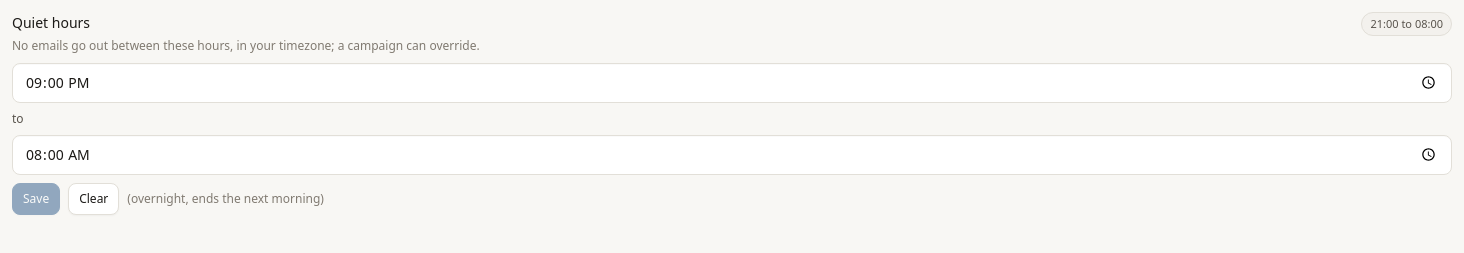
QuietHoursField clear › emptying both fields and pressing Save also clears
Clear the time field named "Quiet hours start". click: (732, 82)
box: [12,62,1452,102]
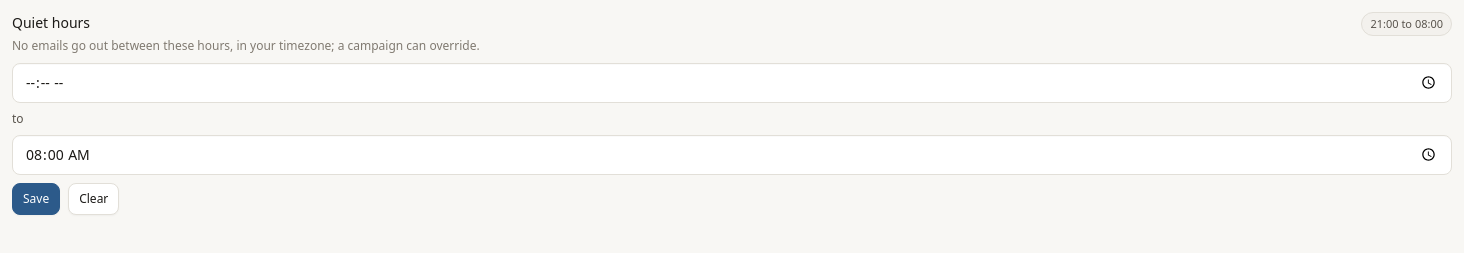
Clear the time field named "Quiet hours end". click: (732, 154)
box: [12,134,1452,174]
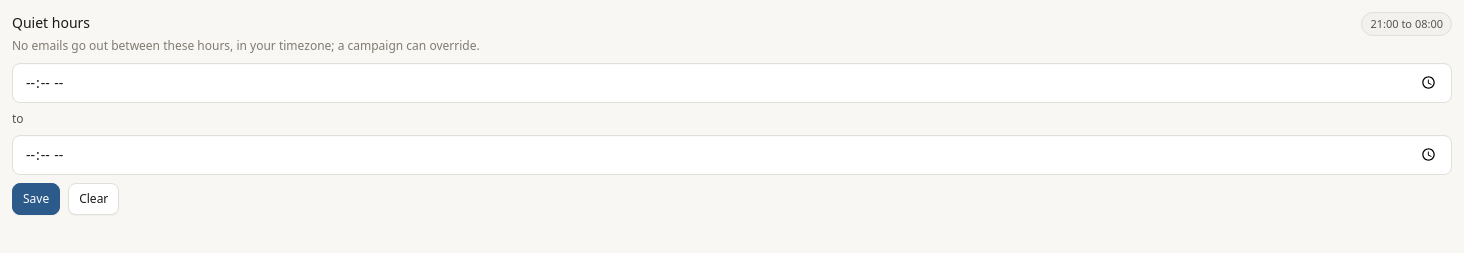
Click the button "Save". click: (36, 198)
box: [12,182,60,214]
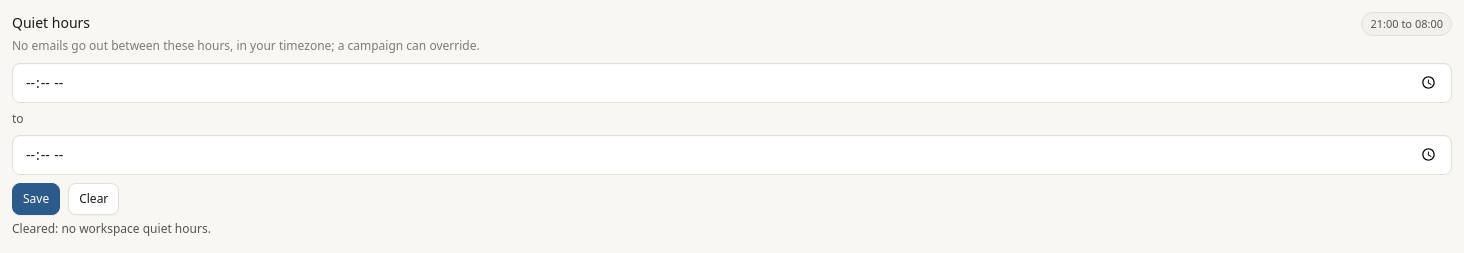
Now the text "Cleared: no workspace quiet hours." is shown, box [12,220,211,236]
